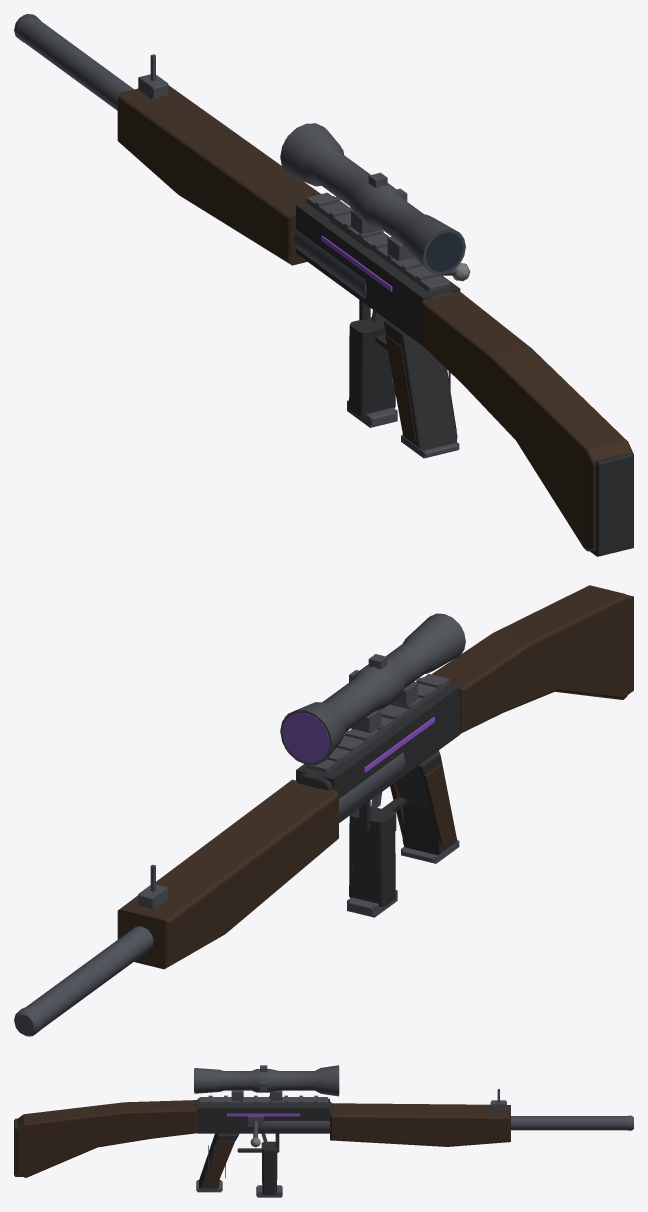
Rendered from bolt.glb.
3 views of the same model, one above another, from view 1: azimuth 30°, elevation 25°; view 2: azimuth 150°, elevation 25°; view 3: azimuth 270°, elevation 25° (orthographic). The views are drawn at different scales.
Parts seen in each view (by area): view 1: L0, L1; view 2: L0, L1; view 3: L0, L1.
Boxes of the visible parts, <box> form: L0: <box>14,14,633,555</box>; L1: <box>15,15,633,556</box>; L0: <box>14,585,633,1036</box>; L1: <box>15,595,633,1036</box>; L0: <box>14,1065,633,1196</box>; L1: <box>15,1065,633,1197</box>.
Size of the model in its own units: 0.11 by 0.2335 by 1.03.
